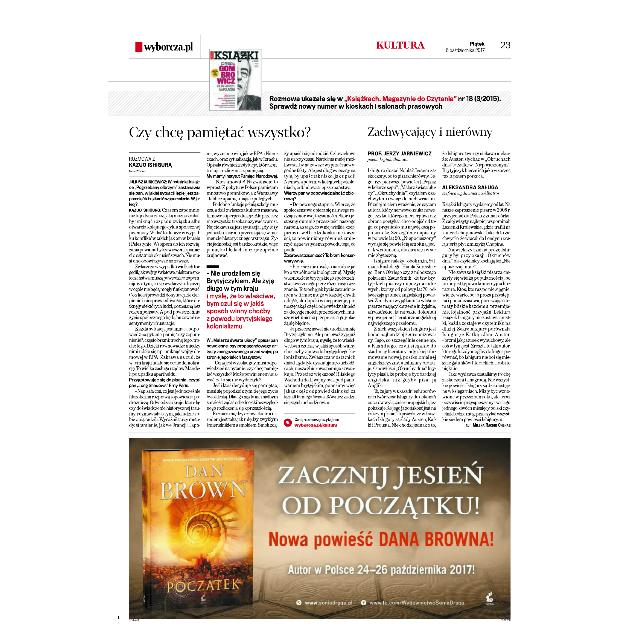article: (125, 121, 357, 429), (366, 120, 514, 432)
